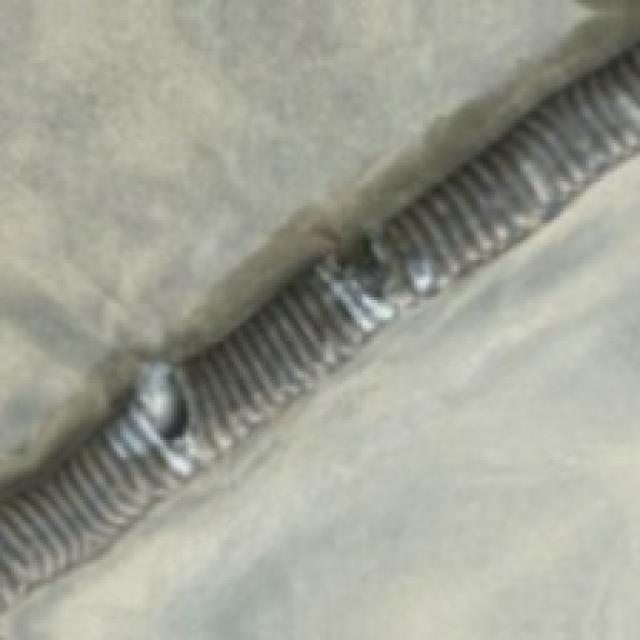king cobra: (0, 0, 637, 603)
